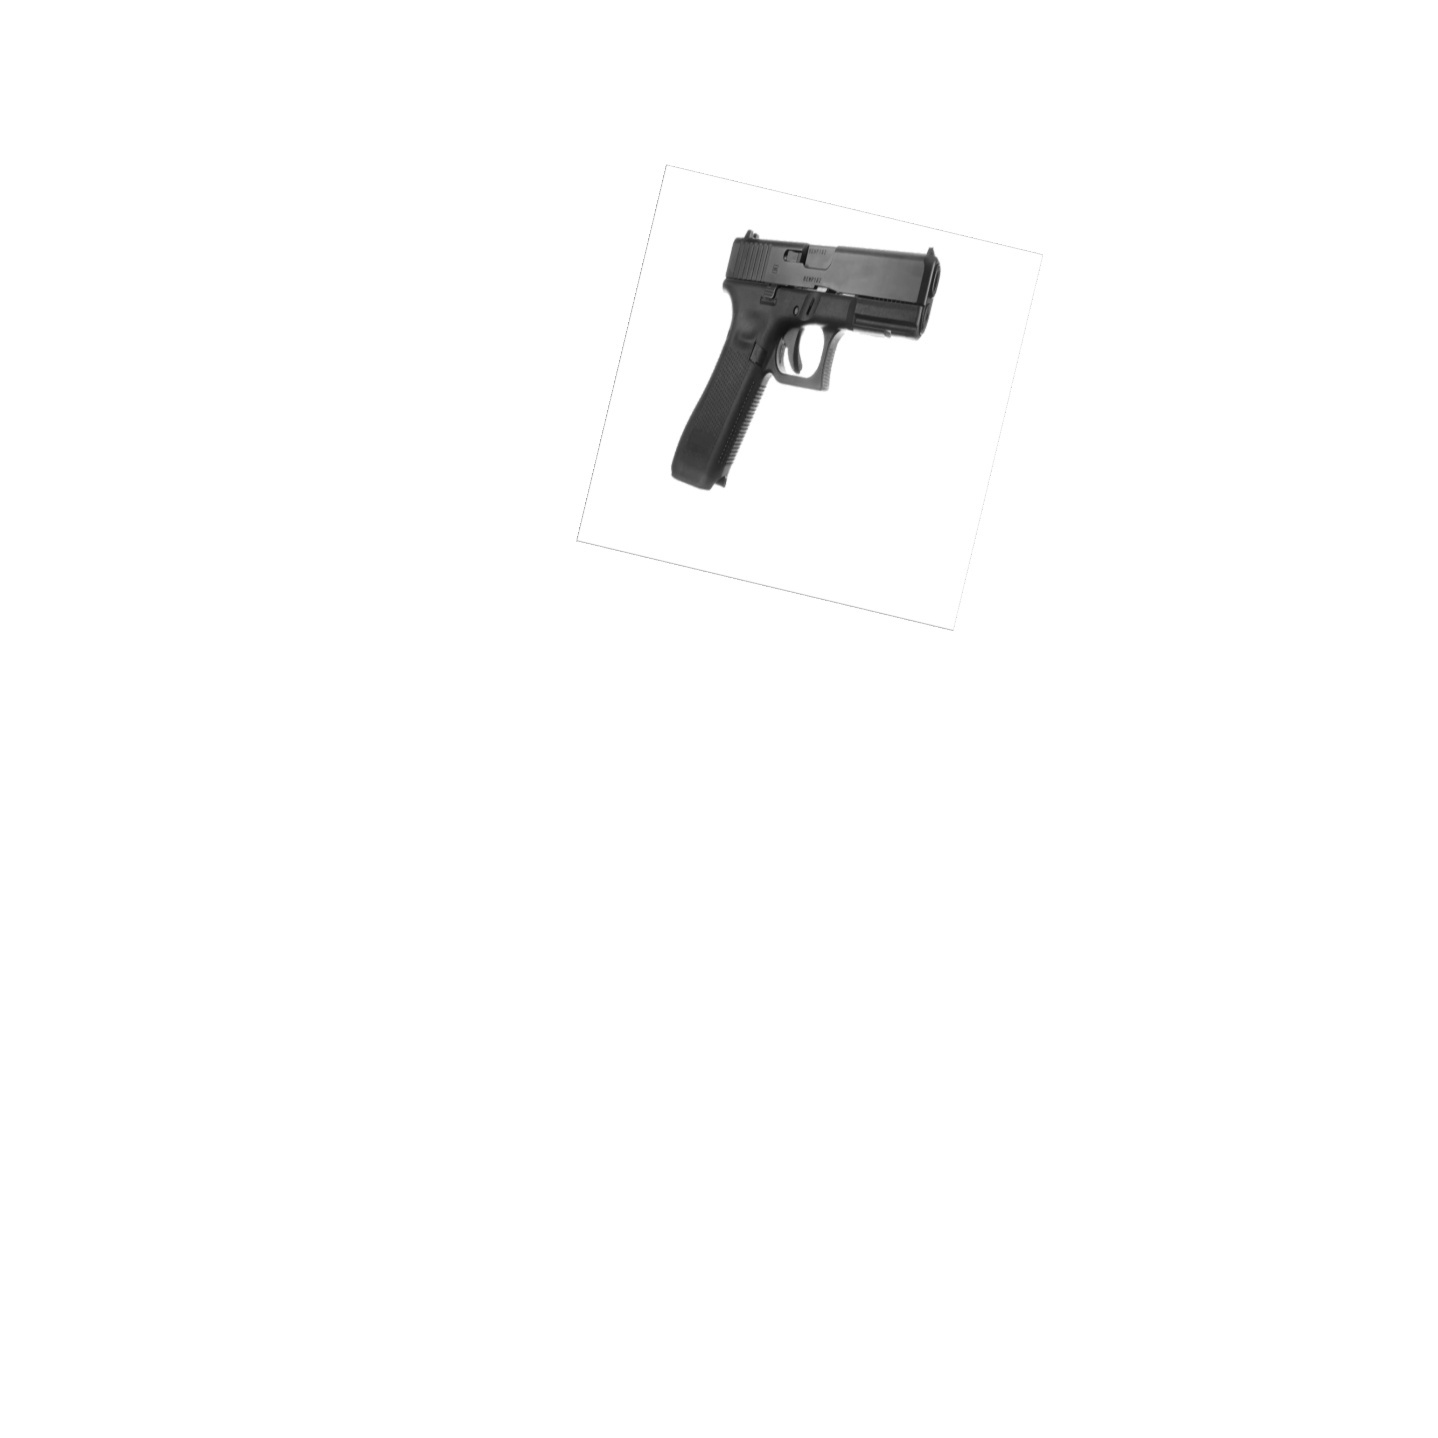gun: (664, 219, 951, 516)
